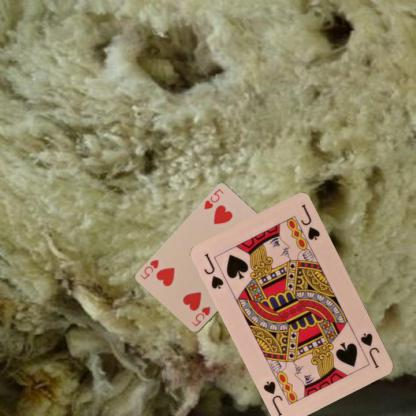5h: (201, 187, 224, 211), (189, 304, 211, 327)
Js: (358, 330, 381, 370), (202, 250, 225, 290)
